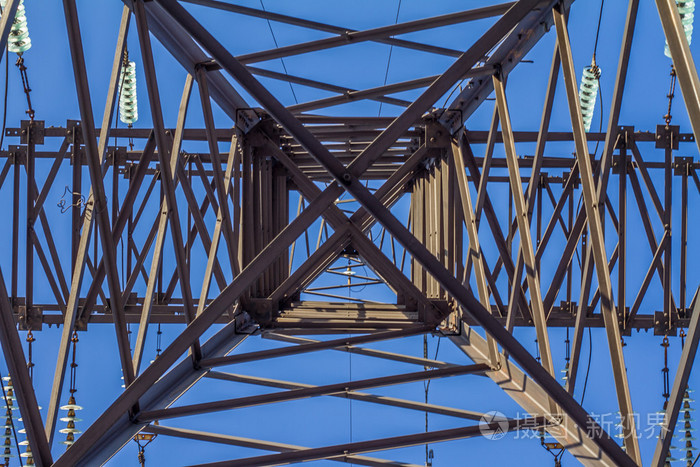insulator: (577, 63, 603, 132), (116, 58, 142, 125), (1, 1, 35, 50), (678, 389, 700, 461), (1, 376, 17, 464), (56, 404, 82, 448)
